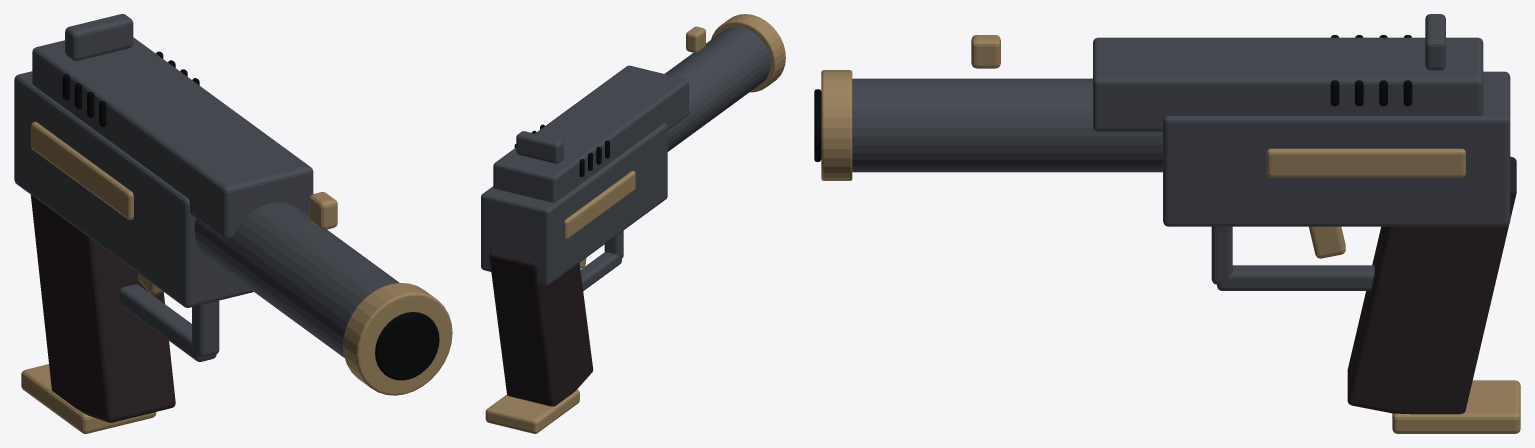
File: VeilWalker_Pistol01.fbx
3 renders of one model, left to right at view 1: azimuth 30°, elevation 25°; view 2: azimuth 150°, elevation 25°; view 3: azimuth 270°, elevation 25°, orthographic. The views are drawn at different scales.
Parts seen in each view (by area): view 1: VeilWalker_Pistol; view 2: VeilWalker_Pistol; view 3: VeilWalker_Pistol.
Part boxes in pixels (<box>): VeilWalker_Pistol: <box>14,14,452,433</box>; VeilWalker_Pistol: <box>481,14,785,433</box>; VeilWalker_Pistol: <box>814,14,1520,433</box>.
Size of the model in its own units: 7.3 by 24.8 by 40.7.
